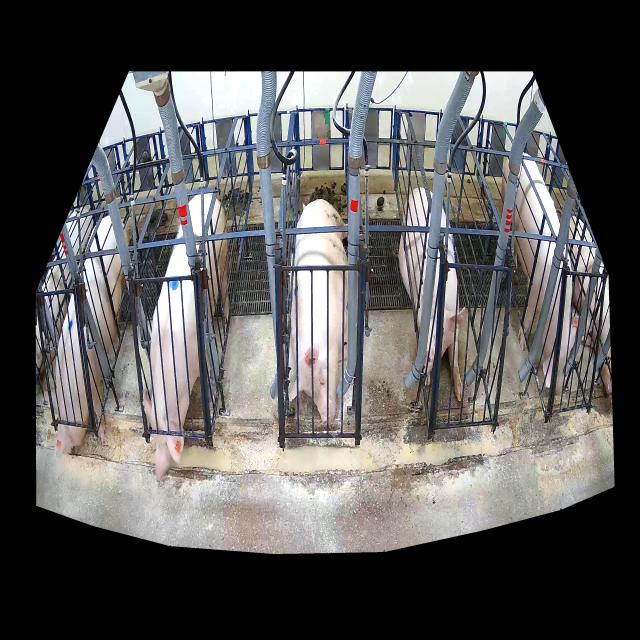pig: (142, 193, 229, 476), (45, 216, 124, 454), (501, 159, 576, 394), (399, 188, 466, 401), (288, 199, 348, 425)
